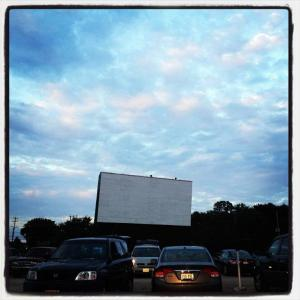Vehicle-registration-plate: (181, 274, 196, 280), (143, 269, 149, 272)
